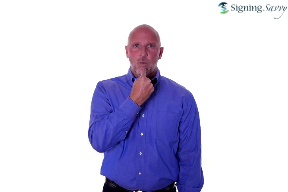who: (114, 55, 164, 105)
